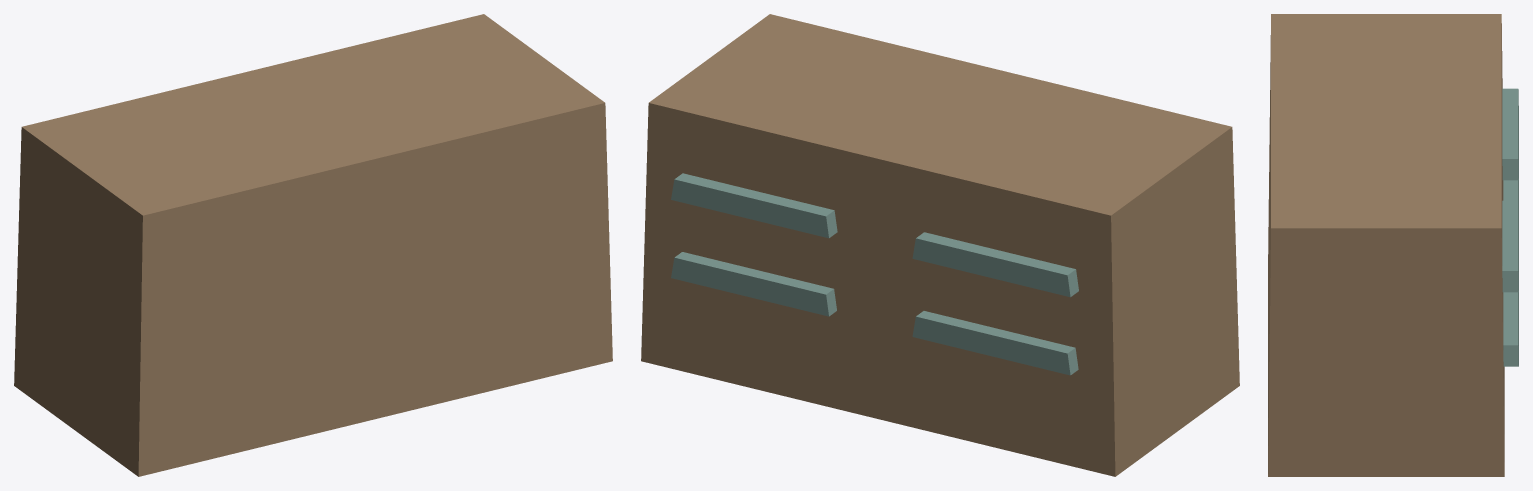
The model's file is dresser_low.glb.
3 views of the same model, side by side, from view 1: azimuth 30°, elevation 25°; view 2: azimuth 150°, elevation 25°; view 3: azimuth 270°, elevation 25° (orthographic). The views are drawn at different scales.
Parts seen in each view (by area): view 1: part_0; view 2: part_0, part_1, part_2, part_4, part_3; view 3: part_0, part_1, part_2, part_4, part_3.
Part boxes in pixels (<box>): part_0: <box>14,14,612,476</box>; part_0: <box>641,14,1239,476</box>; part_1: <box>912,232,1078,297</box>; part_2: <box>671,173,837,238</box>; part_4: <box>671,252,836,316</box>; part_3: <box>912,311,1078,375</box>; part_0: <box>1268,14,1504,476</box>; part_1: <box>1502,88,1518,180</box>; part_2: <box>1502,200,1518,292</box>; part_4: <box>1503,292,1518,366</box>; part_3: <box>1503,180,1518,216</box>.
Size of the model in its own units: 1.65 by 0.86 by 0.795.
